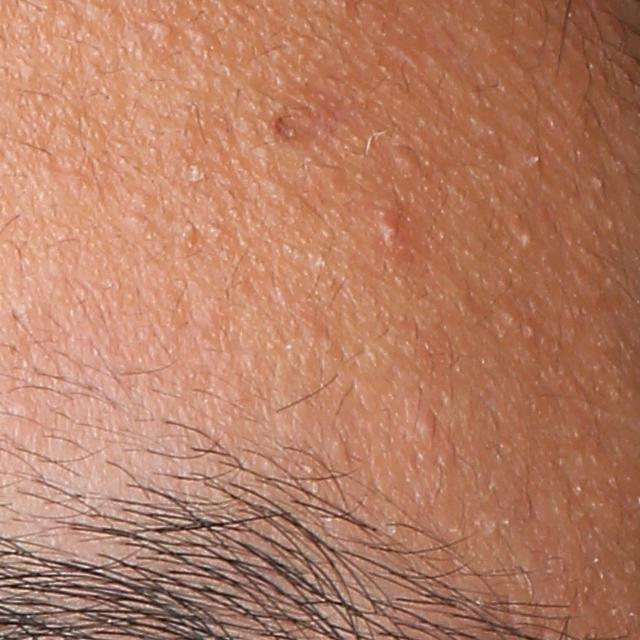comedo: (395, 145, 423, 178), (146, 16, 175, 43), (525, 147, 551, 171), (191, 24, 217, 48), (587, 170, 610, 195), (501, 308, 522, 330), (517, 224, 535, 248), (421, 417, 438, 442)
papule: (374, 214, 405, 247)
